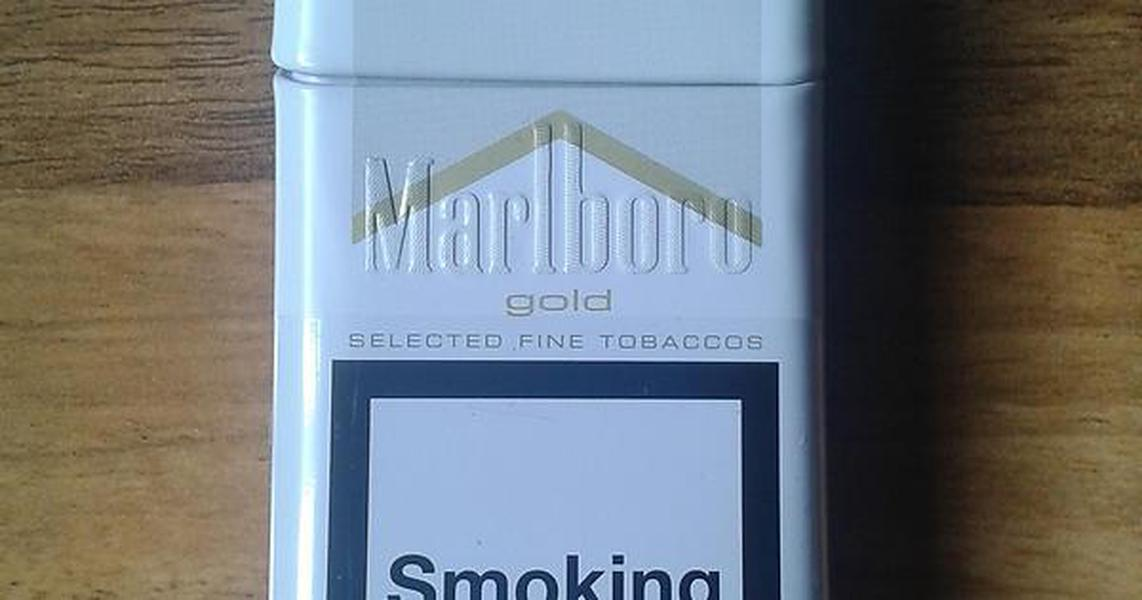marlboro_gold: (315, 1, 799, 600)
